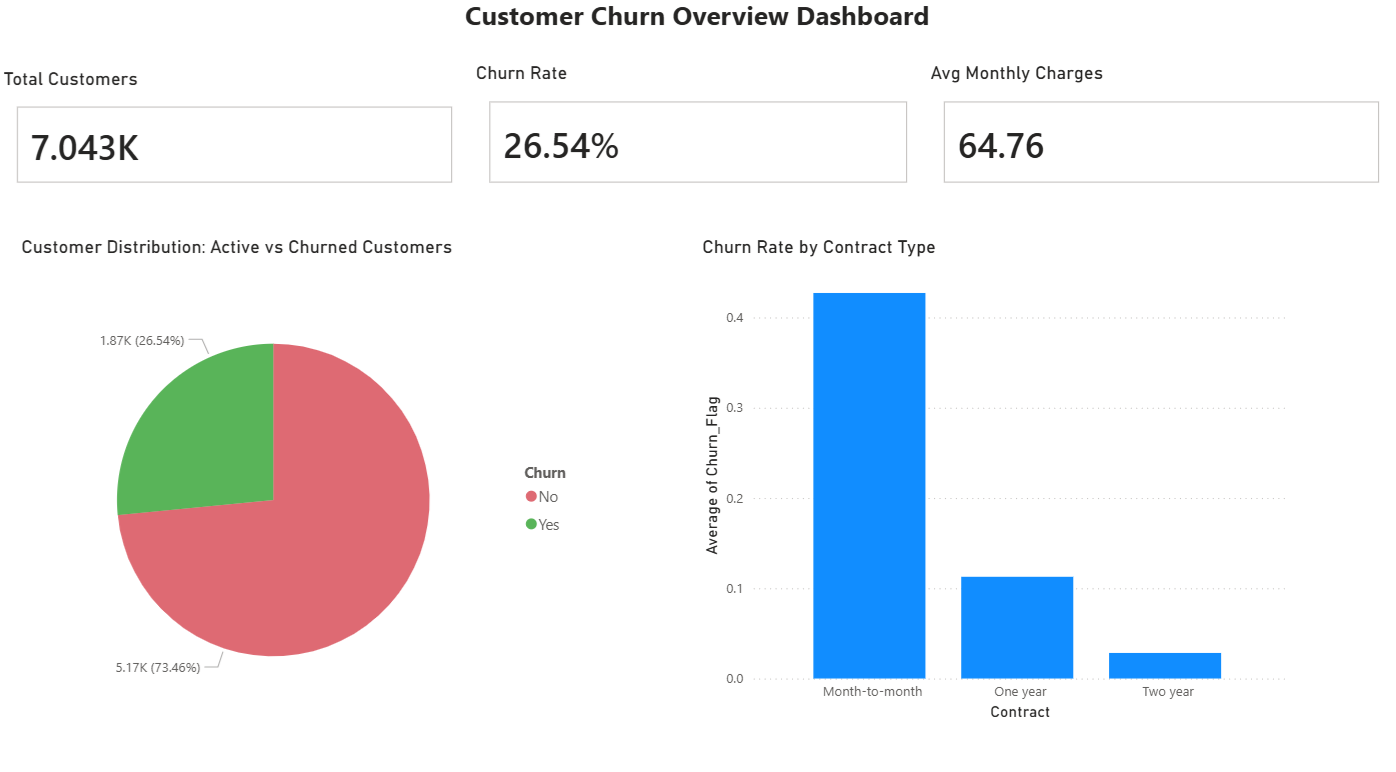

This screenshot's page, from the dashboard's own definition file:
{"tool":"powerbi","page":{"name":"Overview","canvas":[1280,720],"ordinal":0},"visuals":[{"type":"cardVisual","title":"Total Customers","fields":{"Data":["Count(WA_Fn-UseC_-Telco-Customer-Churn.customerID)"]},"box":[0.4,64.6,432,128],"z":0},{"type":"cardVisual","title":"Churn Rate","fields":{"Data":["Avg(WA_Fn-UseC_-Telco-Customer-Churn.Churn_Flag)"]},"box":[432.3,64.6,416,128],"z":1000},{"type":"cardVisual","title":"Avg Monthly Charges","fields":{"Data":["Avg(WA_Fn-UseC_-Telco-Customer-Churn.MonthlyCharges)"]},"box":[848.3,64.6,432,128],"z":2000},{"type":"pieChart","title":"Customer Distribution: Active vs Churned Customers","fields":{"Category":["WA_Fn-UseC_-Telco-Customer-Churn.Churn"],"Y":["CountNonNull(WA_Fn-UseC_-Telco-Customer-Churn.customerID)"]},"box":[16,224,528,464],"z":3000},{"type":"textbox","box":[416,0,448,64],"z":4000},{"type":"clusteredColumnChart","title":"Churn Rate by Contract Type","fields":{"Category":["WA_Fn-UseC_-Telco-Customer-Churn.Contract"],"Y":["Avg(WA_Fn-UseC_-Telco-Customer-Churn.Churn_Flag)"]},"box":[640,224,544,448],"z":5000}]}

Visuals, with their boxes in screenshot pixels (x1, y1, x2, y2), scaled from the page's 1280x720 canvas onto the 1396x772 screenshot:
"Total Customers" cardVisual: {"x1": 0, "y1": 69, "x2": 472, "y2": 207}
"Churn Rate" cardVisual: {"x1": 471, "y1": 69, "x2": 925, "y2": 207}
"Avg Monthly Charges" cardVisual: {"x1": 925, "y1": 69, "x2": 1395, "y2": 207}
"Customer Distribution: Active vs Churned Customers" pieChart: {"x1": 17, "y1": 240, "x2": 593, "y2": 738}
textbox: {"x1": 454, "y1": 0, "x2": 942, "y2": 69}
"Churn Rate by Contract Type" clusteredColumnChart: {"x1": 698, "y1": 240, "x2": 1291, "y2": 721}
